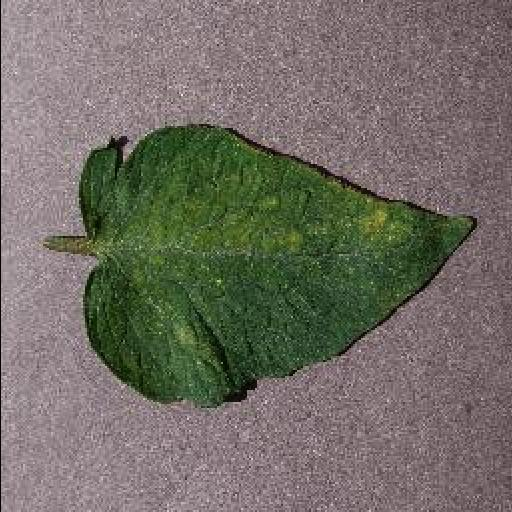disease_tomato: (78, 124, 480, 410)
